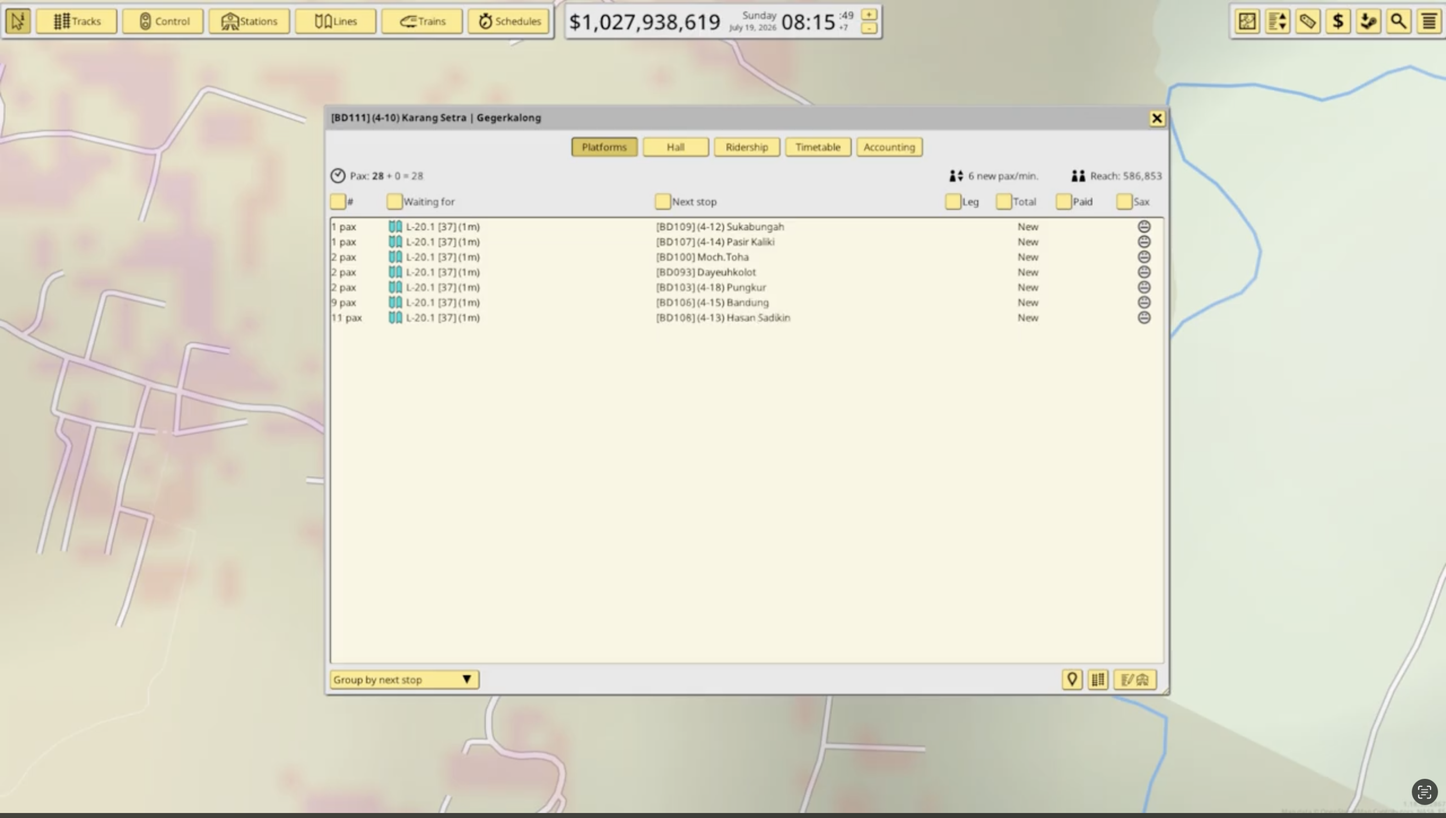passenger_increase: (331, 298, 356, 310), (332, 314, 362, 324), (331, 253, 357, 264), (332, 222, 357, 233), (332, 237, 357, 248), (331, 268, 356, 279), (331, 283, 356, 294)
station_id: (655, 266, 696, 278), (656, 221, 695, 233), (656, 252, 696, 263), (655, 282, 695, 293), (656, 297, 695, 308), (656, 313, 695, 323), (656, 238, 695, 247)
station_name: (727, 313, 791, 323), (727, 222, 785, 233), (697, 268, 757, 278), (697, 252, 749, 262), (727, 297, 769, 309), (726, 282, 766, 294), (727, 238, 776, 246)
station_numbering: (696, 283, 725, 293), (696, 313, 725, 323), (697, 238, 725, 248), (697, 222, 724, 232), (697, 298, 724, 308)
time: (782, 11, 857, 31)
